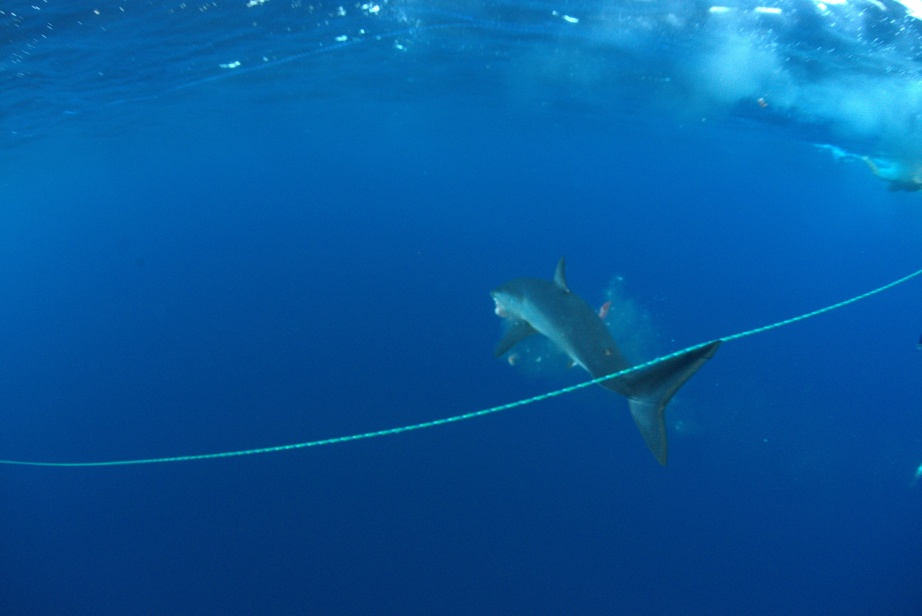Mako: (463, 251, 724, 472)
